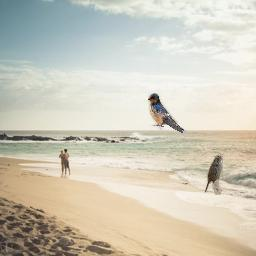Sparrow: (204, 155, 223, 195)
Swallow: (148, 93, 186, 133)
